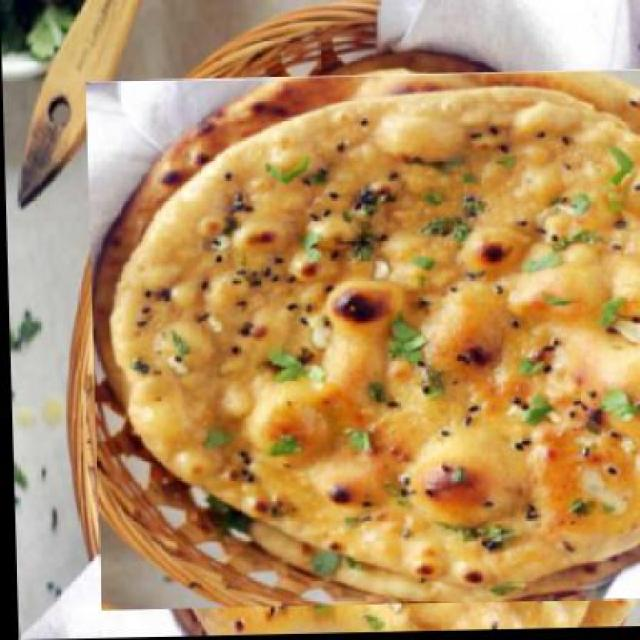chapati: (97, 59, 638, 626)
